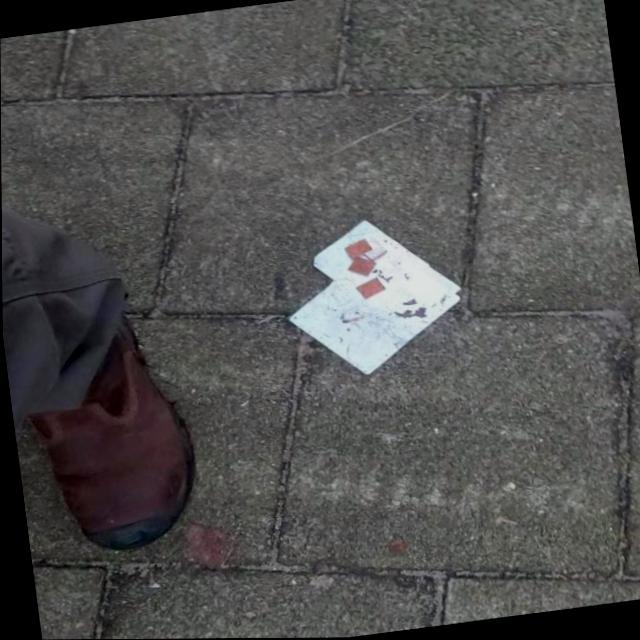Paper: (275, 207, 472, 385)
